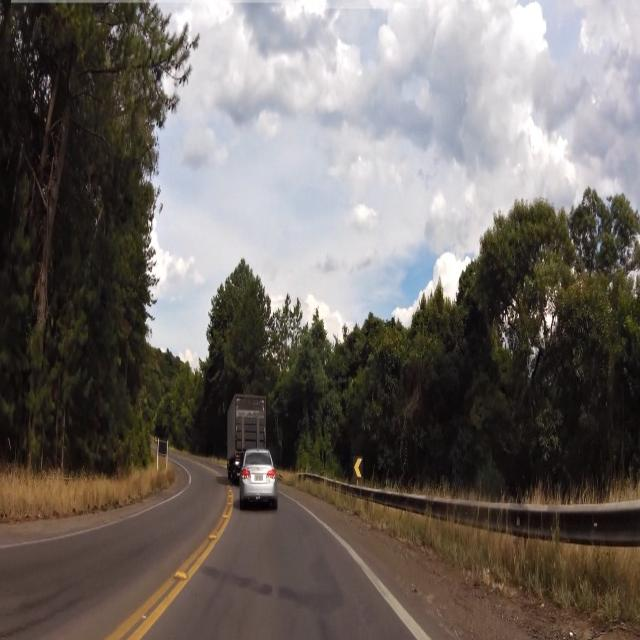Del: (354, 452, 366, 488)
